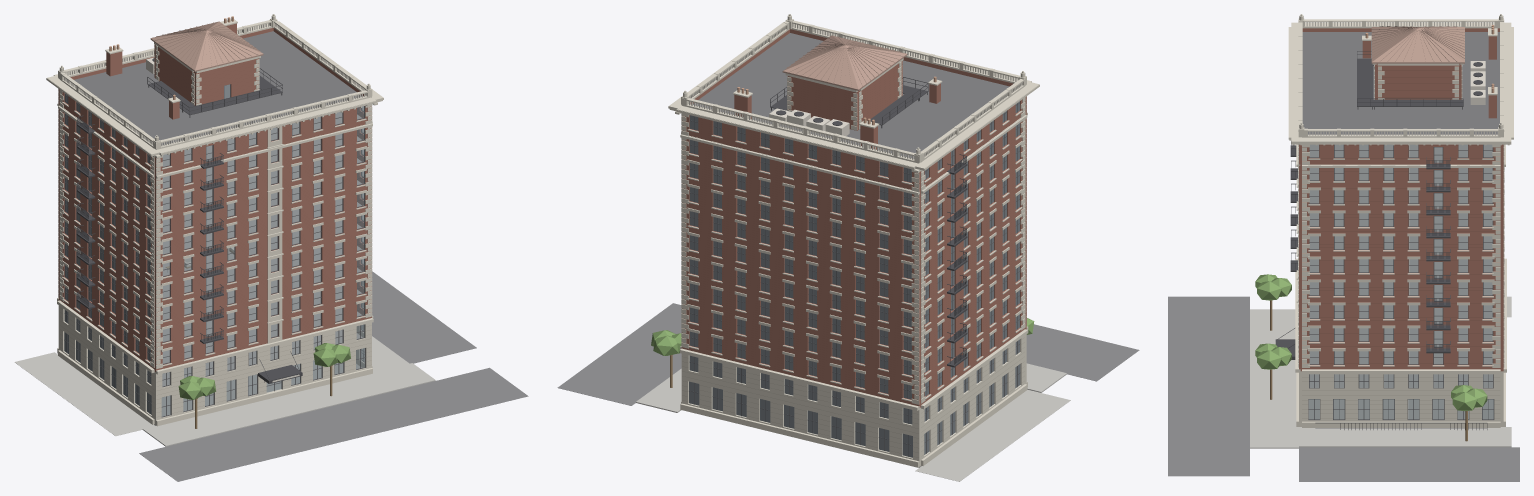
File: clay-prewar-apartment-tower-clay-v001.glb
3 renders of one model, left to right at view 1: azimuth 30°, elevation 25°; view 2: azimuth 150°, elevation 25°; view 3: azimuth 270°, elevation 25°, orthographic. The views are drawn at different scales.
Parts seen in each view (by area): view 1: CLAY_WALL, CLAY_STONE, CLAY_ASPHALT, CLAY_GLASS, CLAY_TRIM, CLAY_CONCRETE, CLAY_MEMBRANE, CLAY_FLOOR, CLAY_HARDWARE, CLAY_COPPER, CLAY_PALE, CLAY_STONEJOINT (+2 smaller); view 2: CLAY_WALL, CLAY_STONE, CLAY_TRIM, CLAY_GLASS, CLAY_MEMBRANE, CLAY_ASPHALT, CLAY_CONCRETE, CLAY_COPPER, CLAY_HARDWARE, CLAY_PALE, CLAY_STONEJOINT, CLAY_PLANTING; view 3: CLAY_WALL, CLAY_STONE, CLAY_ASPHALT, CLAY_GLASS, CLAY_FLOOR, CLAY_MEMBRANE, CLAY_CONCRETE, CLAY_TRIM, CLAY_HARDWARE, CLAY_COPPER, CLAY_JOINT, CLAY_PLANTING (+3 smaller).
Part boxes in pixels (x1,y1,x2,y2): CLAY_WALL: (58, 23, 371, 371); CLAY_STONE: (46, 14, 383, 426); CLAY_ASPHALT: (139, 271, 528, 481); CLAY_GLASS: (64, 84, 364, 416); CLAY_TRIM: (64, 84, 365, 417); CLAY_CONCRETE: (14, 329, 435, 446); CLAY_MEMBRANE: (74, 31, 361, 145); CLAY_FLOOR: (162, 112, 362, 385); CLAY_HARDWARE: (77, 58, 302, 383); CLAY_COPPER: (150, 21, 263, 71); CLAY_PALE: (64, 23, 366, 382); CLAY_STONEJOINT: (60, 308, 371, 417); CLAY_WALL: (681, 29, 1026, 407); CLAY_STONE: (668, 14, 1039, 467); CLAY_TRIM: (689, 101, 1020, 457); CLAY_GLASS: (689, 101, 1020, 457); CLAY_MEMBRANE: (693, 33, 1009, 158); CLAY_ASPHALT: (557, 303, 1139, 405); CLAY_CONCRETE: (636, 363, 1070, 481); CLAY_COPPER: (782, 35, 907, 90); CLAY_HARDWARE: (770, 77, 967, 367); CLAY_PALE: (689, 23, 1022, 159); CLAY_STONEJOINT: (682, 337, 1024, 457); CLAY_PLANTING: (651, 318, 1034, 355); CLAY_WALL: (1299, 28, 1503, 371); CLAY_STONE: (1288, 14, 1513, 427); CLAY_ASPHALT: (1168, 296, 1519, 481); CLAY_GLASS: (1309, 144, 1493, 419); CLAY_FLOOR: (1309, 144, 1492, 387); CLAY_MEMBRANE: (1302, 32, 1499, 134); CLAY_CONCRETE: (1250, 296, 1511, 448); CLAY_TRIM: (1308, 144, 1494, 420); CLAY_HARDWARE: (1275, 51, 1487, 429); CLAY_COPPER: (1371, 26, 1464, 63); CLAY_JOINT: (1302, 70, 1499, 363); CLAY_PLANTING: (1255, 274, 1487, 411).
Size of the model in its own units: 53.6 by 46.45 by 43.
